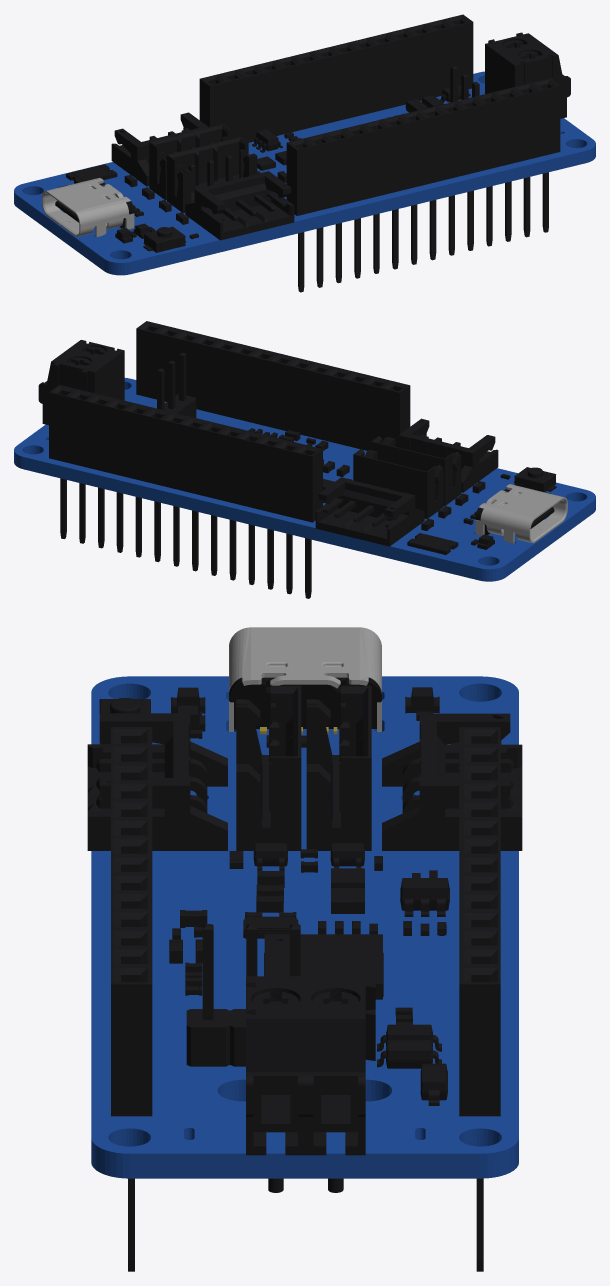
File: robotis-openrb-150.glb
3 renders of one model, top to bottom at view 1: azimuth 30°, elevation 25°; view 2: azimuth 150°, elevation 25°; view 3: azimuth 270°, elevation 25°, orthographic. The views are drawn at different scales.
Visible parts, largest first — view 1: robotis-openrb-150; view 2: robotis-openrb-150; view 3: robotis-openrb-150.
Boxes of the visible parts, bbox=[...] form: robotis-openrb-150: bbox=[14, 14, 595, 292]; robotis-openrb-150: bbox=[14, 321, 595, 598]; robotis-openrb-150: bbox=[87, 627, 522, 1271].
Size of the model in its own units: 66.89 by 19.04 by 25.4.
